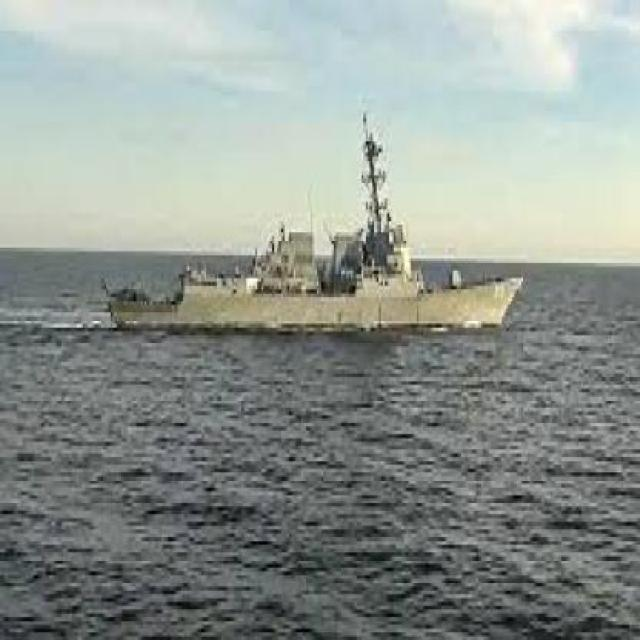warship2: (110, 100, 554, 360)
